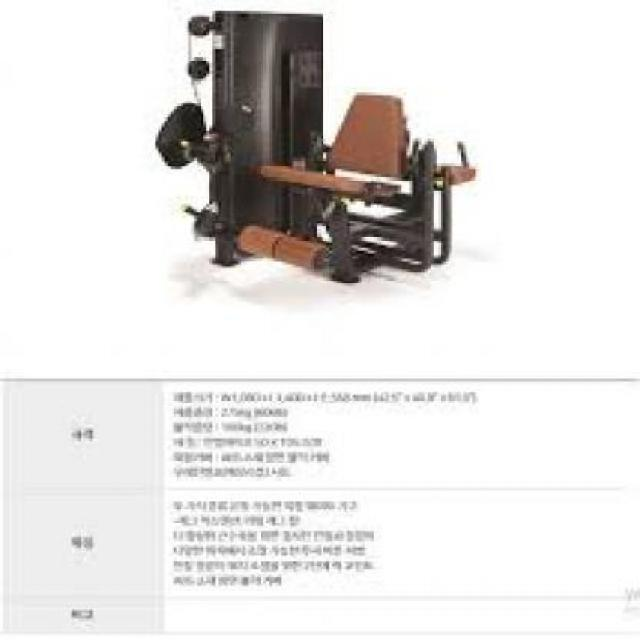leg extension: (152, 0, 486, 314)
